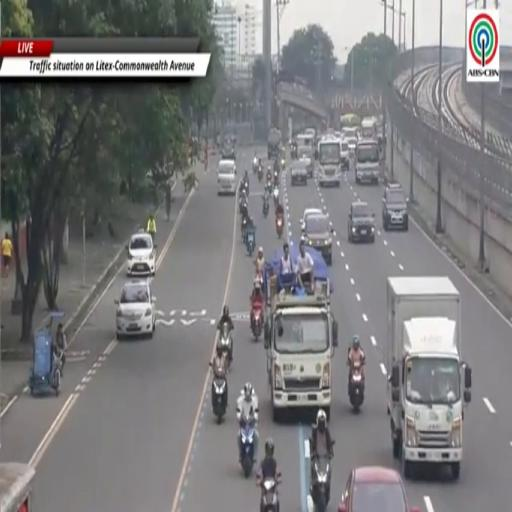car: (338, 467, 419, 511), (116, 280, 155, 339), (302, 214, 333, 265), (126, 231, 156, 277), (382, 183, 408, 231), (348, 201, 375, 243), (218, 159, 236, 195), (297, 147, 314, 178), (301, 208, 323, 230), (291, 159, 308, 185), (340, 140, 350, 170), (345, 136, 357, 155)
motorcycle: (311, 457, 330, 511), (240, 419, 255, 477), (212, 368, 227, 423), (259, 473, 280, 511), (349, 362, 364, 412), (218, 323, 232, 371), (252, 304, 262, 341), (246, 227, 255, 257), (241, 216, 247, 243), (276, 216, 283, 238), (263, 197, 269, 217), (273, 187, 279, 207), (266, 181, 273, 195), (273, 171, 279, 185), (258, 166, 263, 182), (253, 157, 258, 173), (281, 158, 285, 170)
tricycle: (29, 312, 64, 395), (245, 227, 255, 255)
truck: (386, 277, 471, 479), (264, 281, 338, 422), (0, 462, 34, 511), (355, 140, 381, 184), (318, 138, 341, 186), (268, 127, 281, 159), (361, 117, 377, 140)
